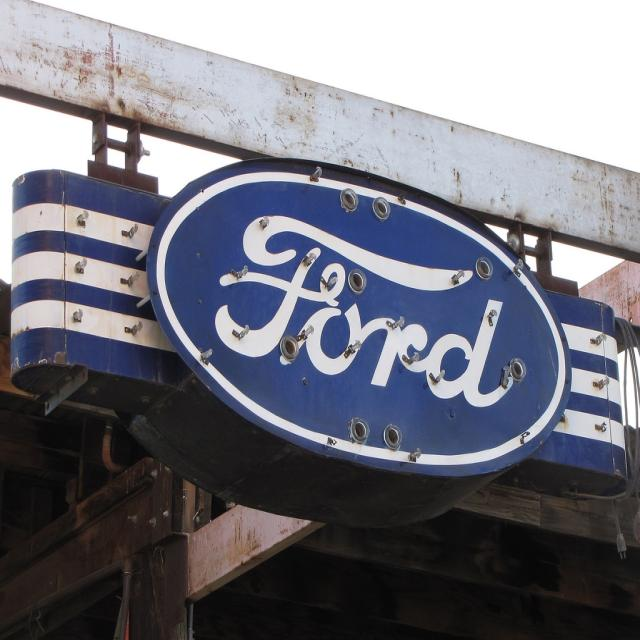ford: (139, 155, 579, 485)
